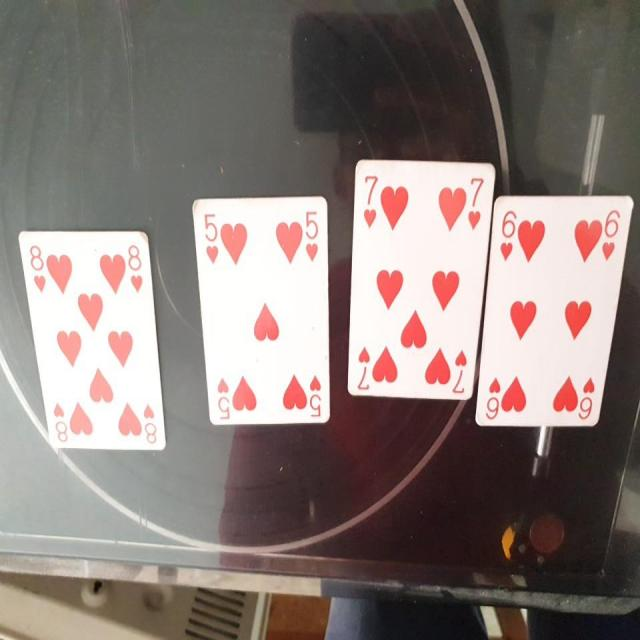5 Hearts: (188, 194, 332, 434)
6 Hearts: (471, 186, 638, 428)
7 Hearts: (338, 152, 500, 397)
8 Hearts: (13, 218, 175, 461)
